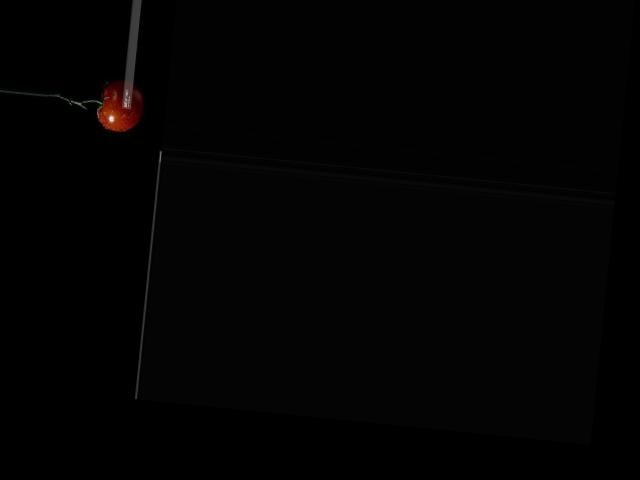tomato: (96, 79, 144, 133)
